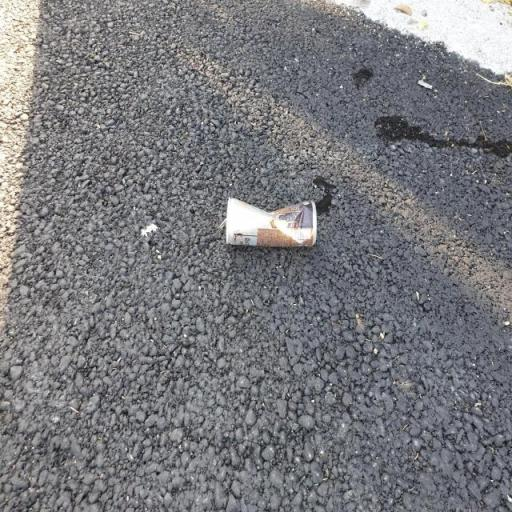metal: (198, 167, 328, 272)
